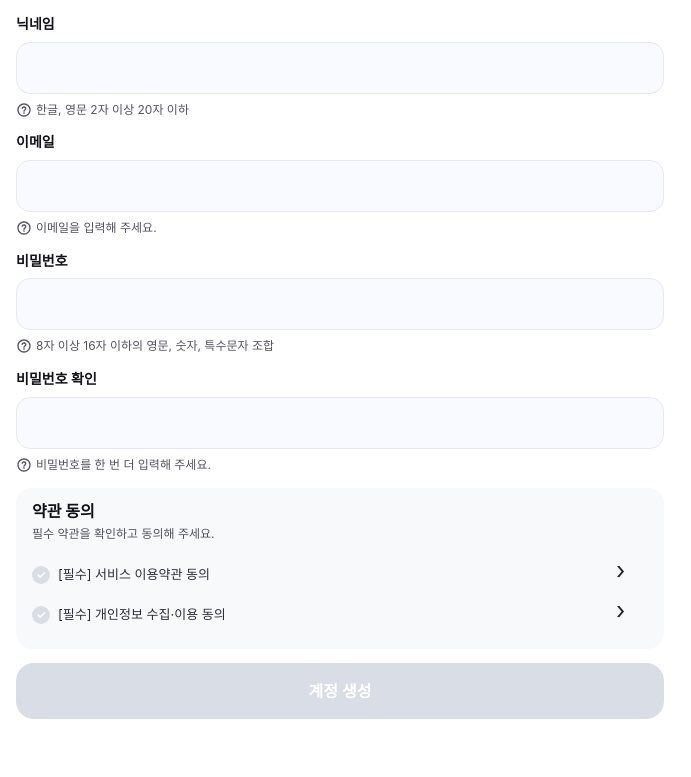
Test case: SignupView 회원가입 화면 › 다른 약관을 열면 기존 아코디언을 닫고 선택한 약관만 표시한다
Click the checkbox with class "term-row" showing "✓ [필수] 서비스 이용약관 동의 ›". click: (134, 574)
box: [32, 555, 648, 595]
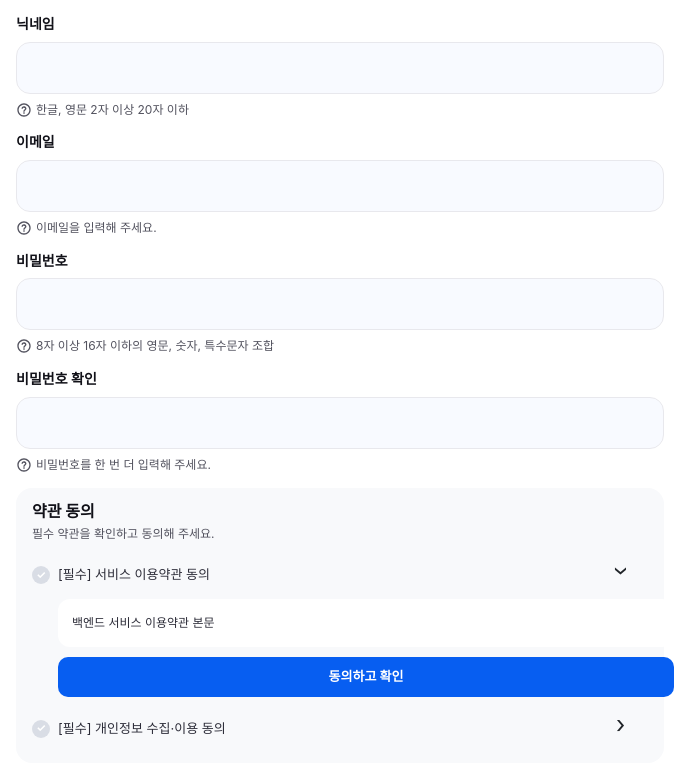
Click the checkbox with class "term-row" showing "✓ [필수] 개인정보 수집·이용 동의 ›". click: (142, 728)
box: [32, 708, 648, 748]
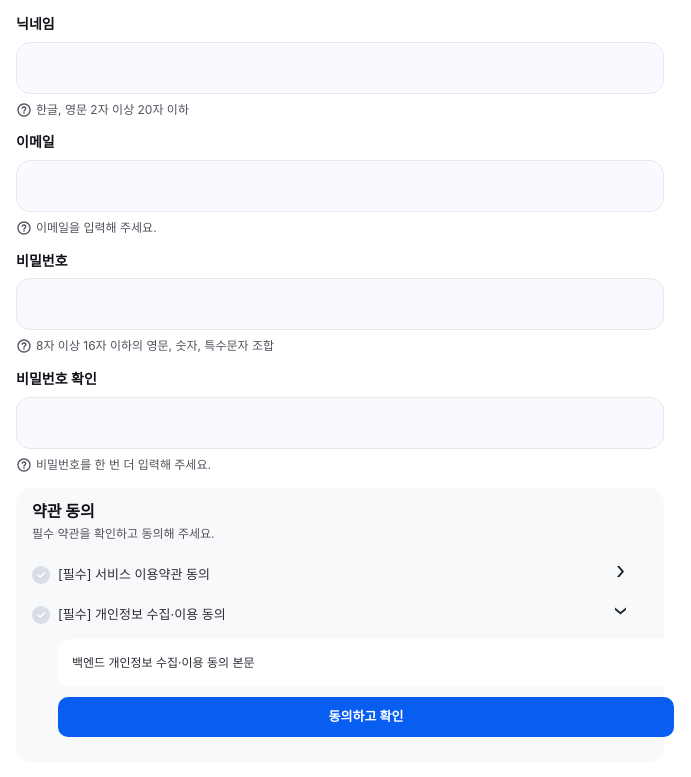
Now the number of elements with class "term-accordion" is 1, box [58, 639, 674, 737]
Now the element with class "term-accordion" shows "개인정보 수집·이용 동의", box [72, 655, 255, 670]
Now the checkbox with class "term-row" is collapsed, box [32, 555, 648, 595]
